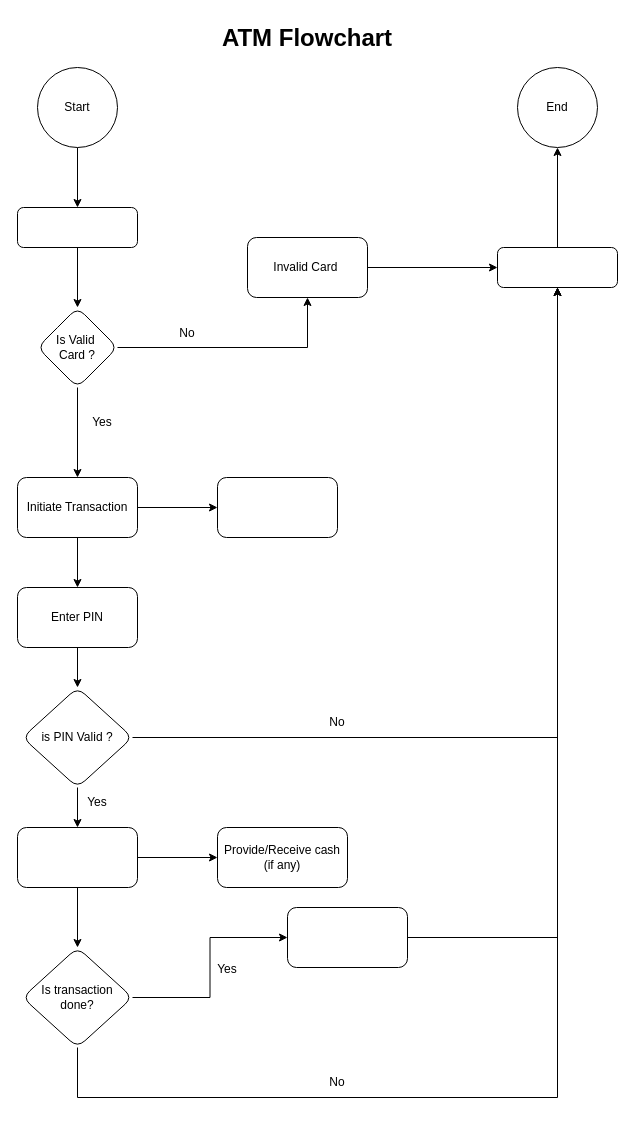
This 635x1123 diagram has some shape labels left out. Here are the shapes that lost their labels. From the top down, the box of each, then its label:
(16, 206, 138, 248): Card Insertion
(496, 246, 618, 288): Card Returned
(216, 476, 338, 538): Select Transaction Type
(16, 826, 138, 888): Process Transaction
(286, 906, 408, 968): Print Receipt
